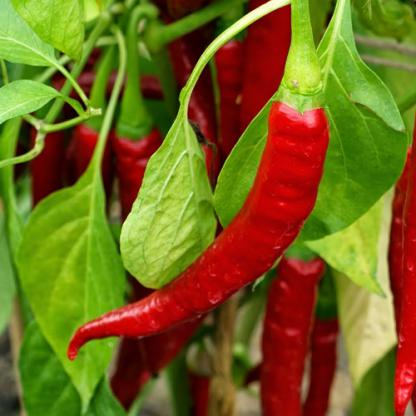chili: (63, 102, 335, 364), (253, 256, 329, 415)
